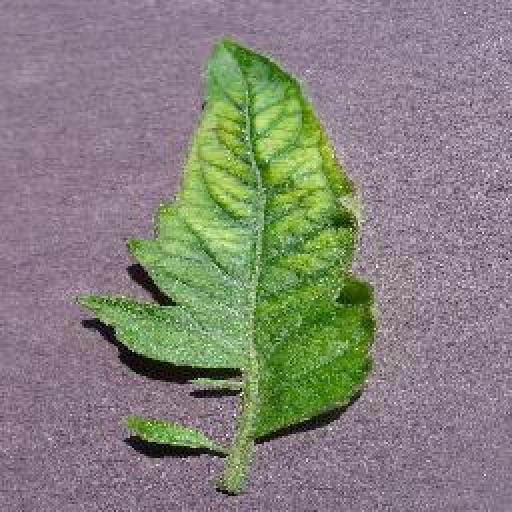disease_tomato: (80, 38, 378, 436)
